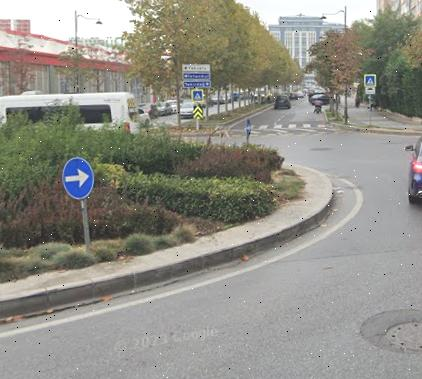turnright: (63, 158, 93, 199), (246, 119, 253, 137)
